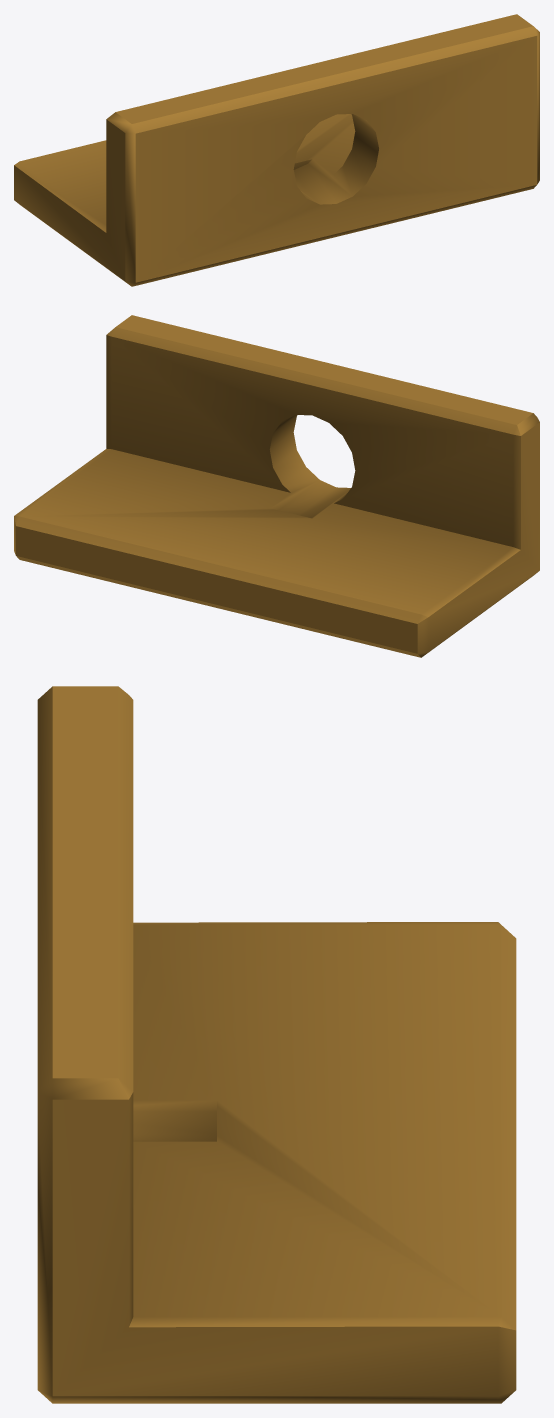
Rendered from clip_angle_small.glb.
The picture shows the model from 3 angles, top to bottom: view 1: azimuth 30°, elevation 25°; view 2: azimuth 150°, elevation 25°; view 3: azimuth 270°, elevation 25°; orthographic projection. The views are drawn at different scales.
Visible parts, largest first — view 1: Clip_AngleSmall; view 2: Clip_AngleSmall; view 3: Clip_AngleSmall.
Boxes of the visible parts, x1=… form: Clip_AngleSmall: x1=14, y1=14, x2=539, y2=286; Clip_AngleSmall: x1=14, y1=315, x2=539, y2=657; Clip_AngleSmall: x1=37, y1=686, x2=516, y2=1403.
Size of the model in its own units: 0.016 by 0.006 by 0.008.
